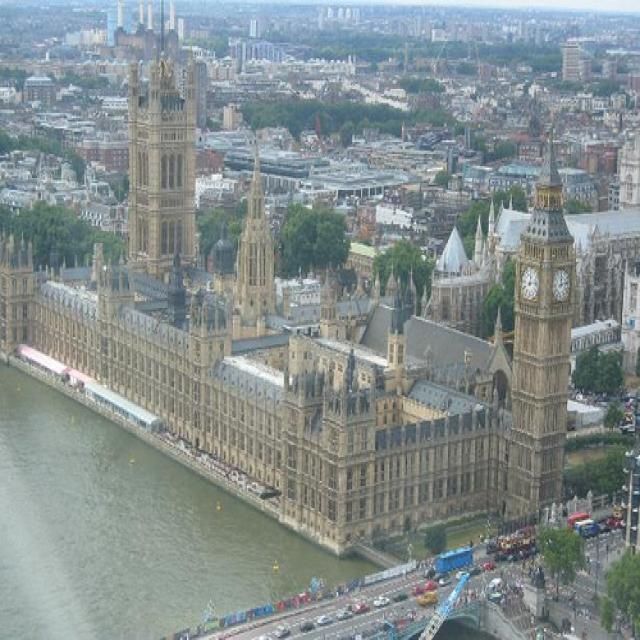Vehicle: (422, 561, 484, 580), (436, 548, 474, 574), (566, 510, 590, 531), (574, 520, 600, 537), (392, 590, 408, 602), (353, 603, 370, 614), (373, 597, 390, 608), (335, 610, 353, 620), (300, 621, 316, 632), (276, 626, 291, 637), (317, 615, 333, 625), (439, 576, 452, 587), (425, 580, 438, 590), (411, 586, 424, 596), (483, 562, 497, 571), (249, 635, 273, 640), (455, 572, 470, 579)
